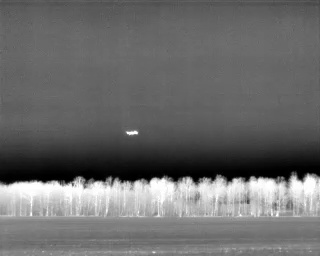DRONE: (123, 125, 143, 140)
